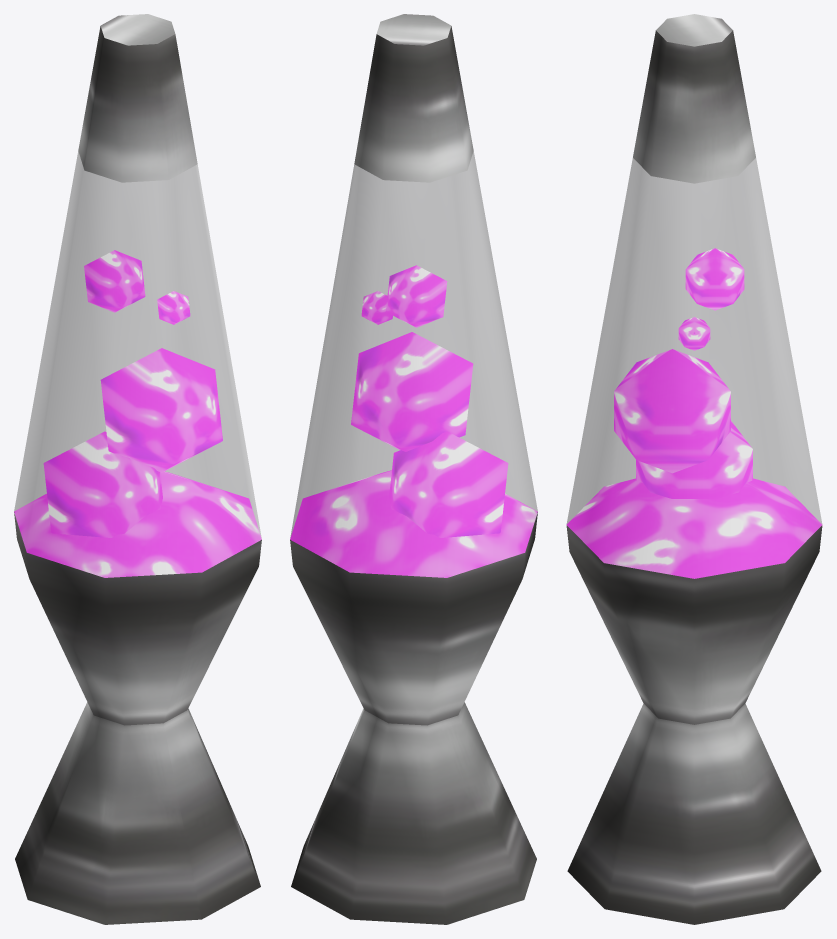
The model's file is lamp_lava.fbx.
The picture shows the model from 3 angles, left to right: view 1: azimuth 30°, elevation 25°; view 2: azimuth 150°, elevation 25°; view 3: azimuth 270°, elevation 25°; orthographic projection.
Visible parts, largest first — view 1: lamp_lava; view 2: lamp_lava; view 3: lamp_lava.
Part boxes in pixels (bbox=[...]): lamp_lava: bbox=[14, 14, 261, 924]; lamp_lava: bbox=[290, 14, 537, 924]; lamp_lava: bbox=[566, 14, 822, 924].
Bounding box in the file's own units: 17.97 × 65.13 × 17.97.
2 materials, 1 textured.
